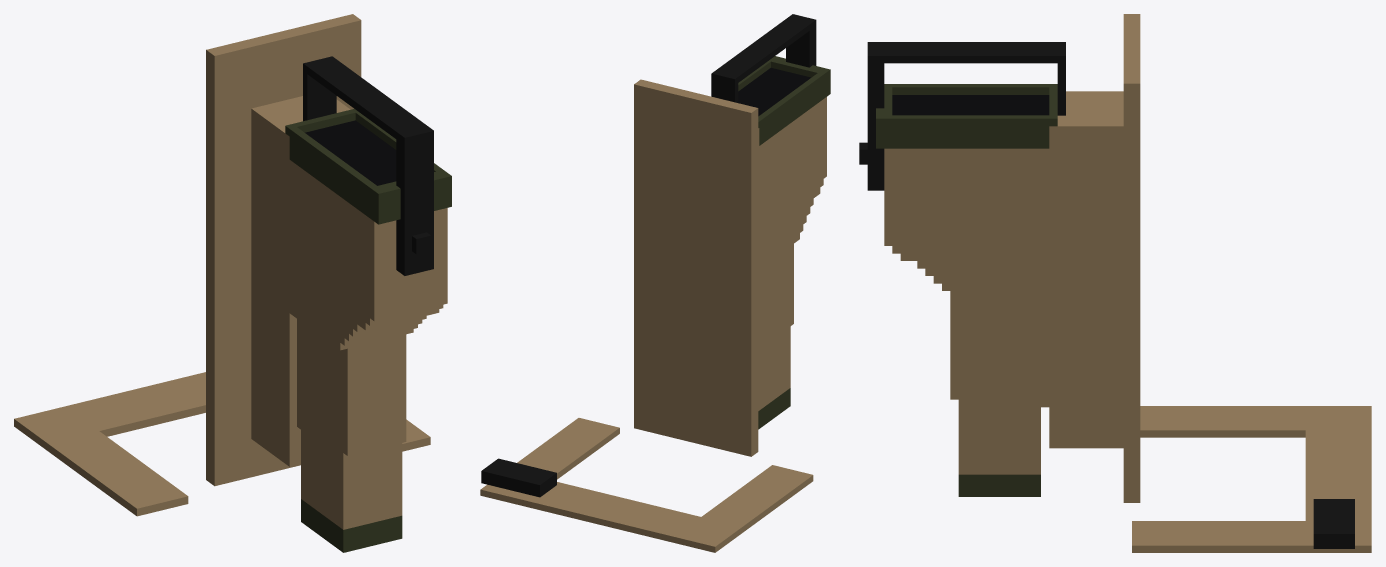
File: tactical_holster.glb
3 views of the same model, side by side, from view 1: azimuth 30°, elevation 25°; view 2: azimuth 150°, elevation 25°; view 3: azimuth 270°, elevation 25° (orthographic). The views are drawn at different scales.
Visible parts, largest first — view 1: tactical_holster:compound; view 2: tactical_holster:compound; view 3: tactical_holster:compound.
Boxes of the visible parts, x1=… form: tactical_holster:compound: x1=14, y1=14, x2=451, y2=552; tactical_holster:compound: x1=480, y1=14, x2=830, y2=552; tactical_holster:compound: x1=859, y1=14, x2=1371, y2=552.
Bounding box in the file's own units: 0.164 × 0.232 × 0.248.
